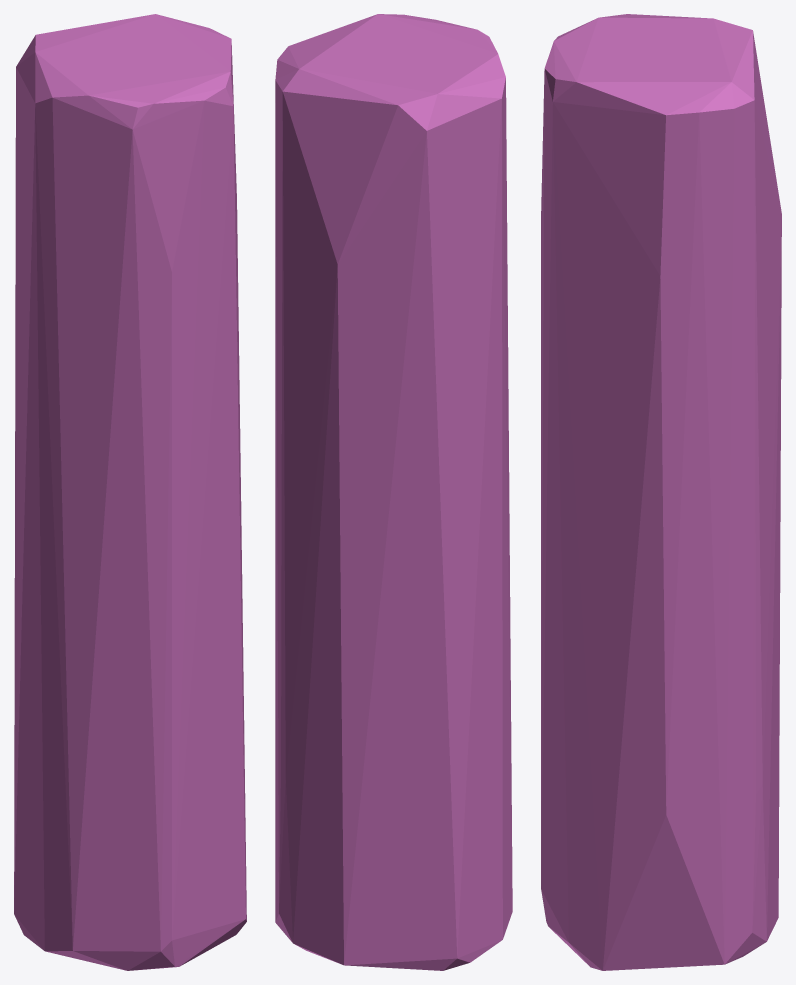
Rendered from consumable_fuse_micro_green_a01.glb.
The picture shows the model from 3 angles, left to right: view 1: azimuth 30°, elevation 25°; view 2: azimuth 150°, elevation 25°; view 3: azimuth 270°, elevation 25°; orthographic projection.
Parts seen in each view (by area): view 1: geometry_0; view 2: geometry_0; view 3: geometry_0.
Boxes of the visible parts, box(x1,y1,x2,y2) form: geometry_0: box(14, 14, 246, 970); geometry_0: box(275, 14, 512, 970); geometry_0: box(541, 14, 781, 970).
Bounding box in the file's own units: 0.1193 × 0.4799 × 0.1189.
